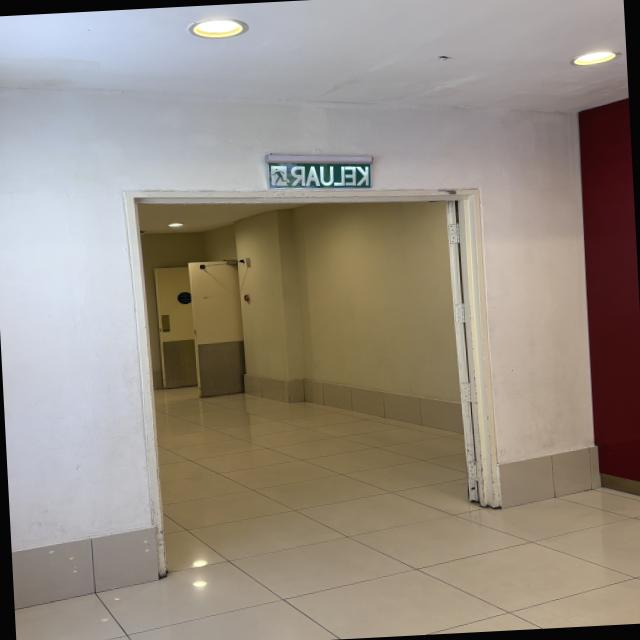door: (125, 189, 503, 582)
